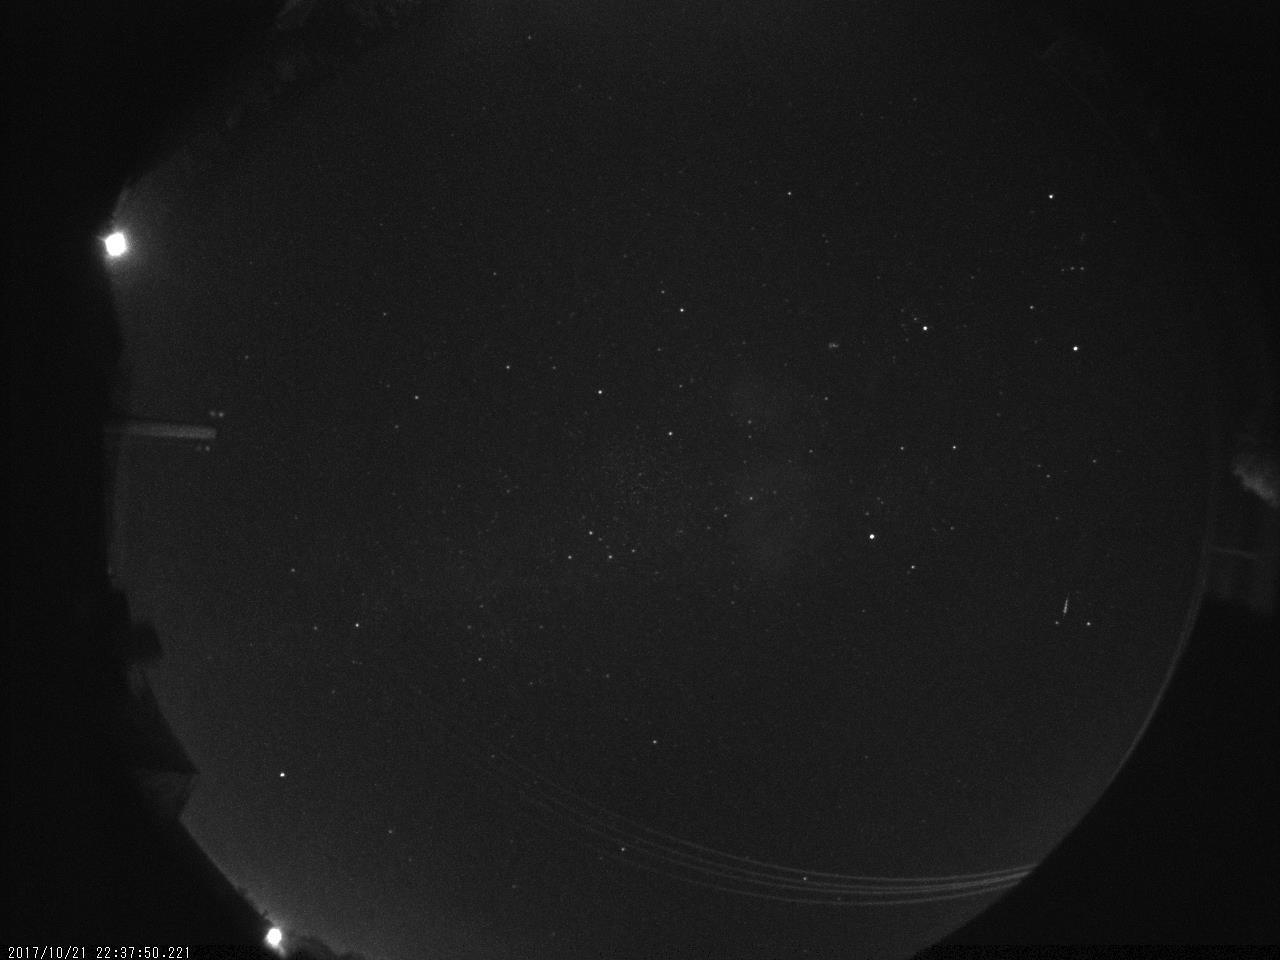Meteor: (1059, 590, 1075, 625)
